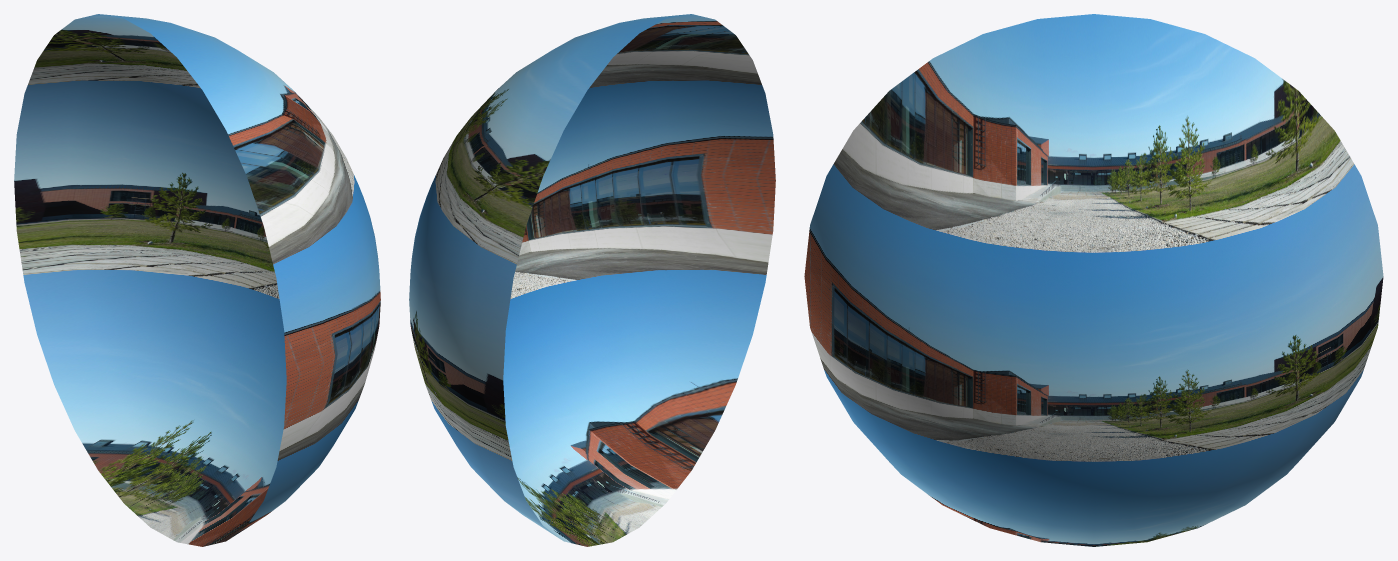
The model's file is PhysicsClassroomOutside.fbx.
3 views of the same model, side by side, from view 1: azimuth 30°, elevation 25°; view 2: azimuth 150°, elevation 25°; view 3: azimuth 270°, elevation 25° (orthographic). The views are drawn at different scales.
Visible parts, largest first — view 1: Sphere; view 2: Sphere; view 3: Sphere.
Boxes of the visible parts, x1,y1,x2,y2 form: Sphere: [14, 14, 380, 546]; Sphere: [409, 14, 775, 546]; Sphere: [804, 14, 1383, 546].
Bounding box in the file's own units: 669 × 1630 × 1630.
1 material, 1 textured.
